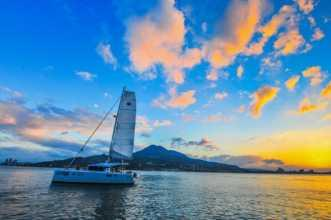fanchuan: (44, 84, 151, 186)
